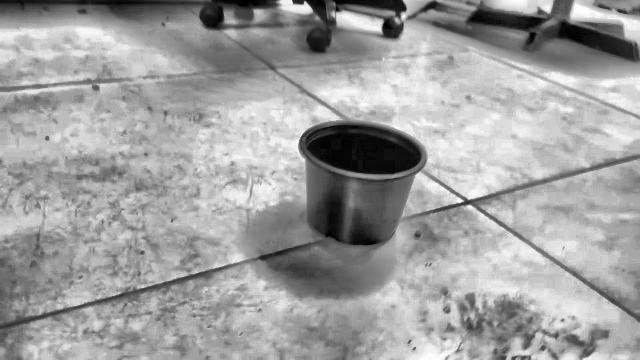pot: (299, 121, 427, 245)
